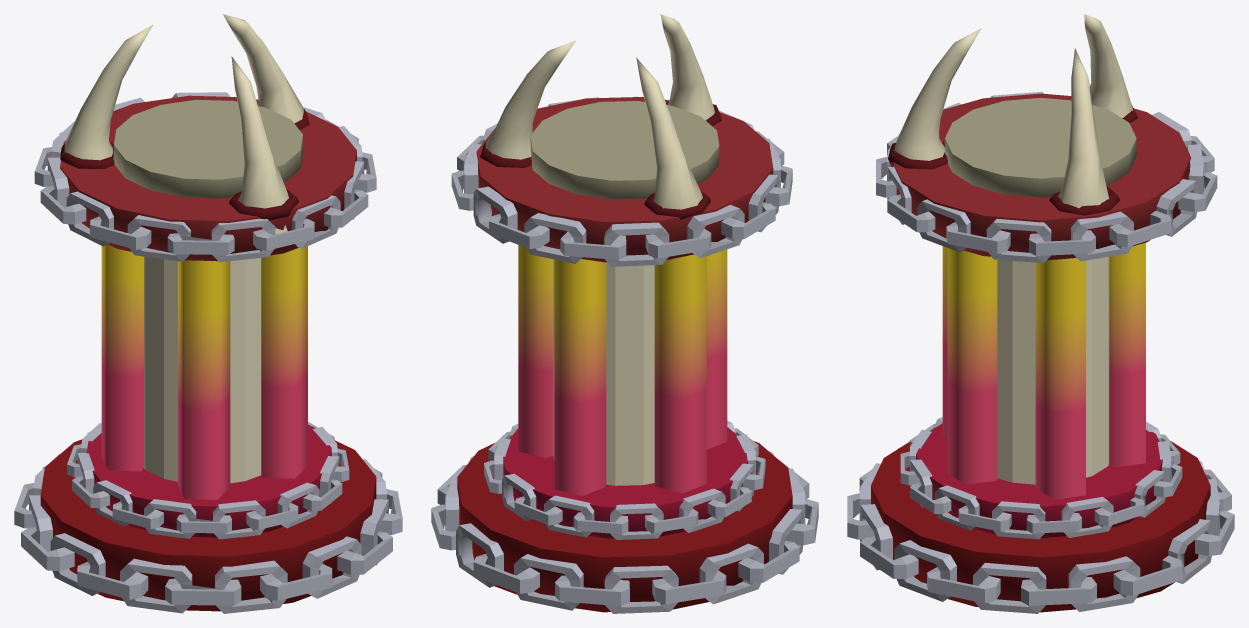
Rendered from AUTEL.fbx.
The picture shows the model from 3 angles, left to right: view 1: azimuth 30°, elevation 25°; view 2: azimuth 150°, elevation 25°; view 3: azimuth 270°, elevation 25°; orthographic projection.
Visible parts, largest first — view 1: CHAINE GRANDE.001; view 2: CHAINE GRANDE.001; view 3: CHAINE GRANDE.001.
Boxes of the visible parts, left/top/right/bottom form: CHAINE GRANDE.001: left=14, top=14, right=402, bottom=613; CHAINE GRANDE.001: left=431, top=14, right=818, bottom=613; CHAINE GRANDE.001: left=847, top=14, right=1234, bottom=613.
Bounding box in the file's own units: 158 × 228 × 157.
